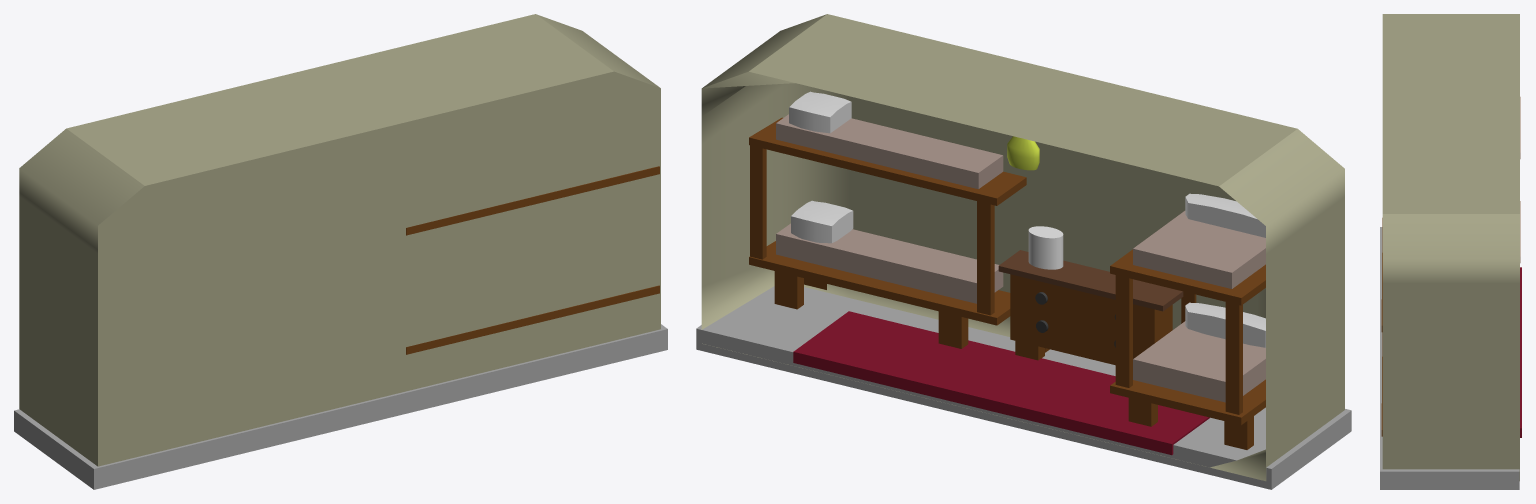
Rendered from Barracks.fbx.
The picture shows the model from 3 angles, left to right: view 1: azimuth 30°, elevation 25°; view 2: azimuth 150°, elevation 25°; view 3: azimuth 270°, elevation 25°; orthographic projection. The views are drawn at different scales.
Visible parts, largest first — view 1: pCylinder7; view 2: pCylinder7; view 3: pCylinder7.
Part boxes in pixels (bbox=[...]): pCylinder7: bbox=[14, 14, 667, 489]; pCylinder7: bbox=[696, 14, 1351, 489]; pCylinder7: bbox=[1380, 14, 1521, 489].
Size of the model in its own units: 17.03 by 8.23 by 4.17.
